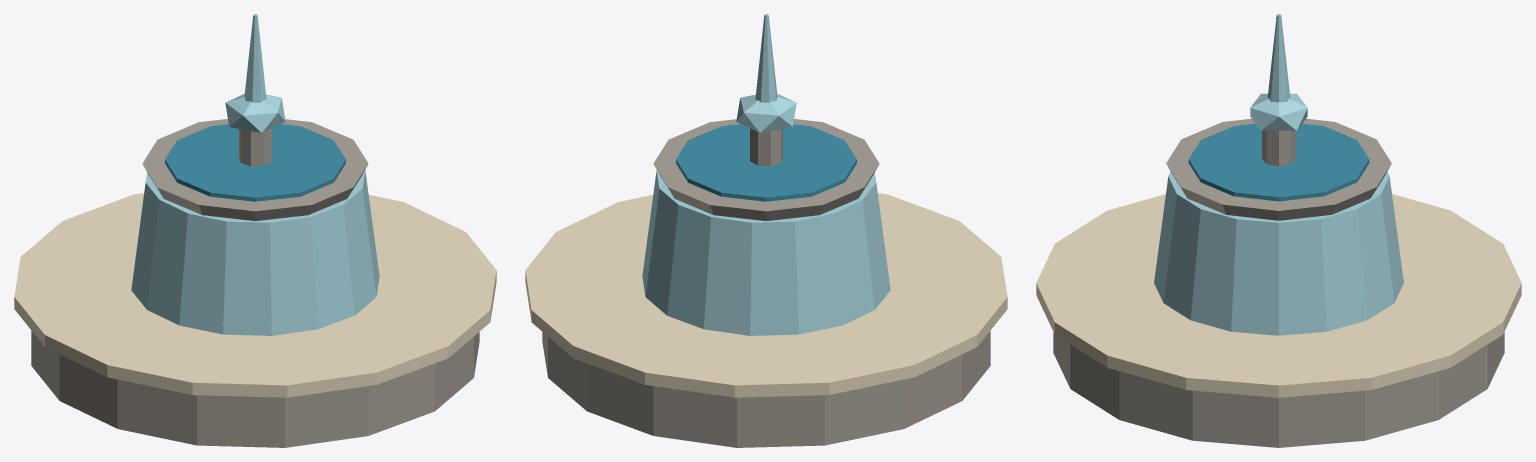
Rendered from fountain.glb.
The picture shows the model from 3 angles, left to right: view 1: azimuth 30°, elevation 25°; view 2: azimuth 150°, elevation 25°; view 3: azimuth 270°, elevation 25°; orthographic projection.
Parts seen in each view (by area): view 1: fountain; view 2: fountain; view 3: fountain.
Boxes of the visible parts, bbox=[...] form: fountain: bbox=[14, 14, 496, 447]; fountain: bbox=[525, 14, 1007, 447]; fountain: bbox=[1036, 14, 1521, 447].
Bounding box in the file's own units: 4.3 × 3.3 × 4.3.
